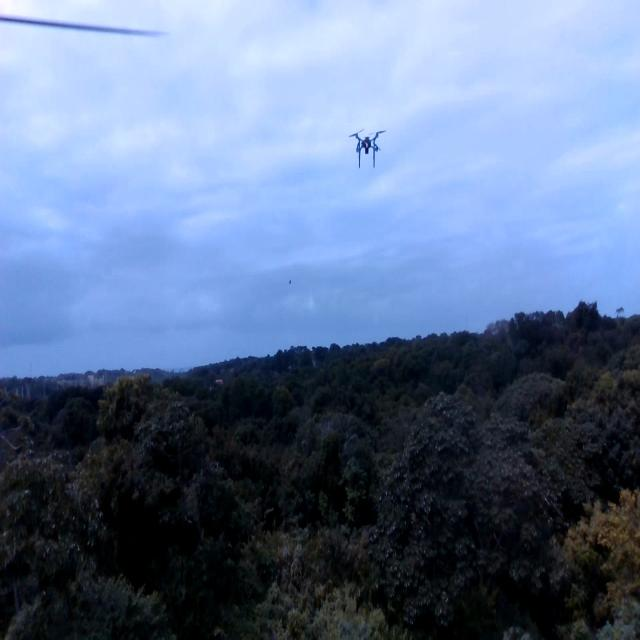-uav-: (344, 116, 392, 178)
